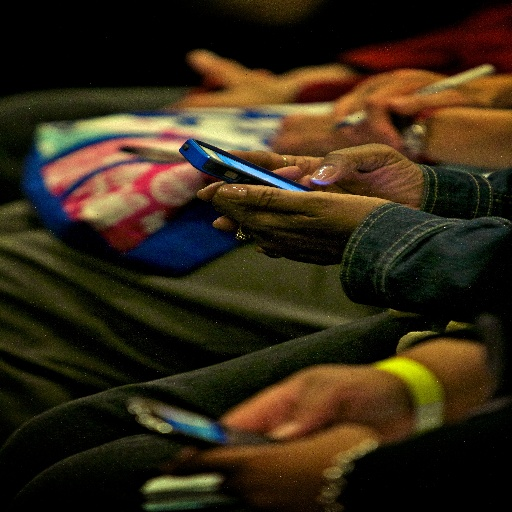hand: (191, 356, 450, 459), (196, 143, 420, 260), (157, 420, 382, 511), (211, 164, 394, 269), (272, 102, 415, 158), (332, 66, 470, 112), (186, 47, 270, 88)
